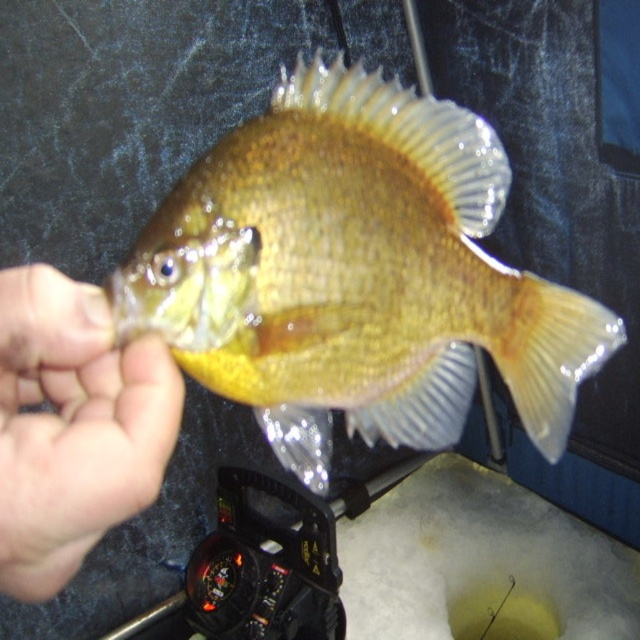Fish: (104, 47, 628, 498)
